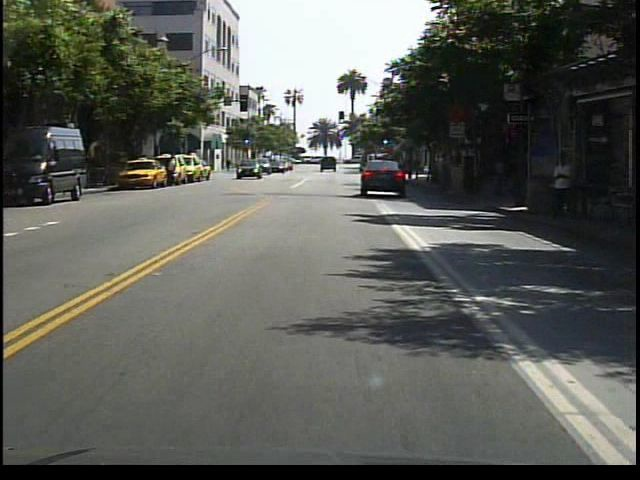person: (545, 148, 580, 226), (164, 153, 181, 190)
